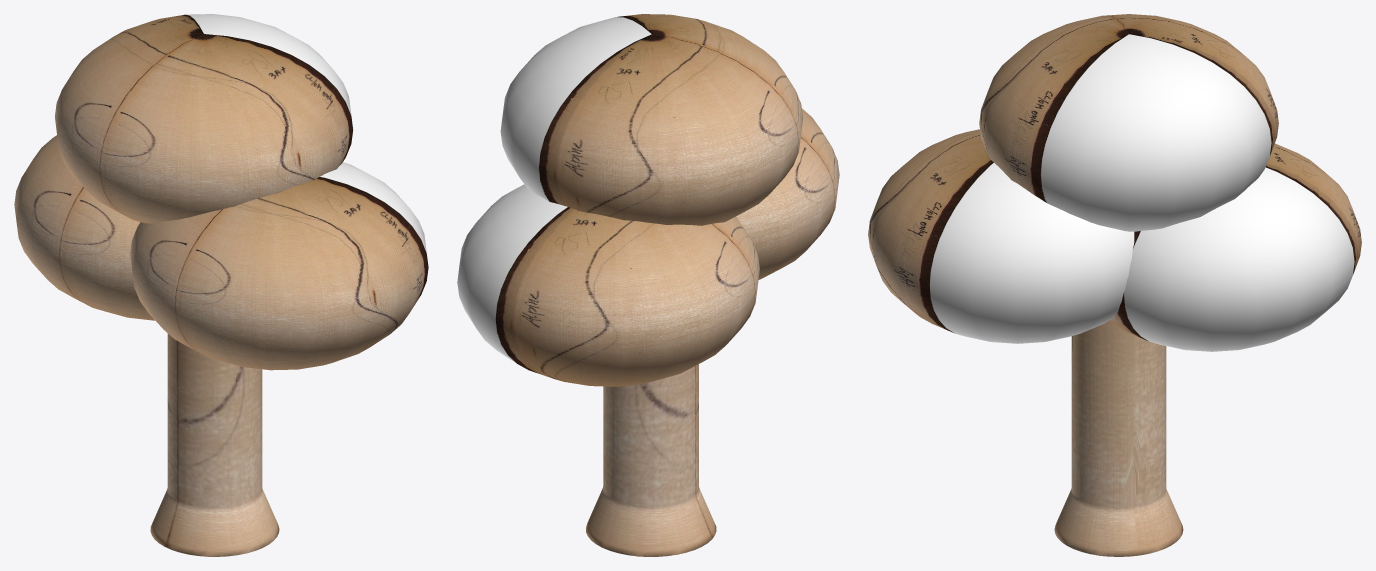
Rendered from tree.fbx.
3 views of the same model, side by side, from view 1: azimuth 30°, elevation 25°; view 2: azimuth 150°, elevation 25°; view 3: azimuth 270°, elevation 25° (orthographic).
Parts seen in each view (by area): view 1: pSphere3, pSphere2, pCylinder1, pSphere1; view 2: pSphere3, pSphere1, pCylinder1, pSphere2; view 3: pSphere3, pSphere2, pSphere1, pCylinder1.
Boxes of the visible parts, left/top/right/bottom form: pSphere3: left=55, top=14, right=353, bottom=223; pSphere2: left=130, top=162, right=428, bottom=370; pCylinder1: left=150, top=333, right=279, bottom=556; pSphere1: left=14, top=135, right=154, bottom=320; pSphere3: left=500, top=14, right=803, bottom=225; pSphere1: left=457, top=184, right=759, bottom=386; pCylinder1: left=586, top=364, right=716, bottom=556; pSphere2: left=736, top=108, right=839, bottom=279; pSphere3: left=979, top=14, right=1278, bottom=231; pSphere2: left=868, top=129, right=1134, bottom=343; pSphere1: left=1109, top=143, right=1361, bottom=351; pCylinder1: left=1054, top=321, right=1183, bottom=556.
Size of the model in its own units: 5.43 by 9.19 by 8.32.
1 material, 1 textured.
